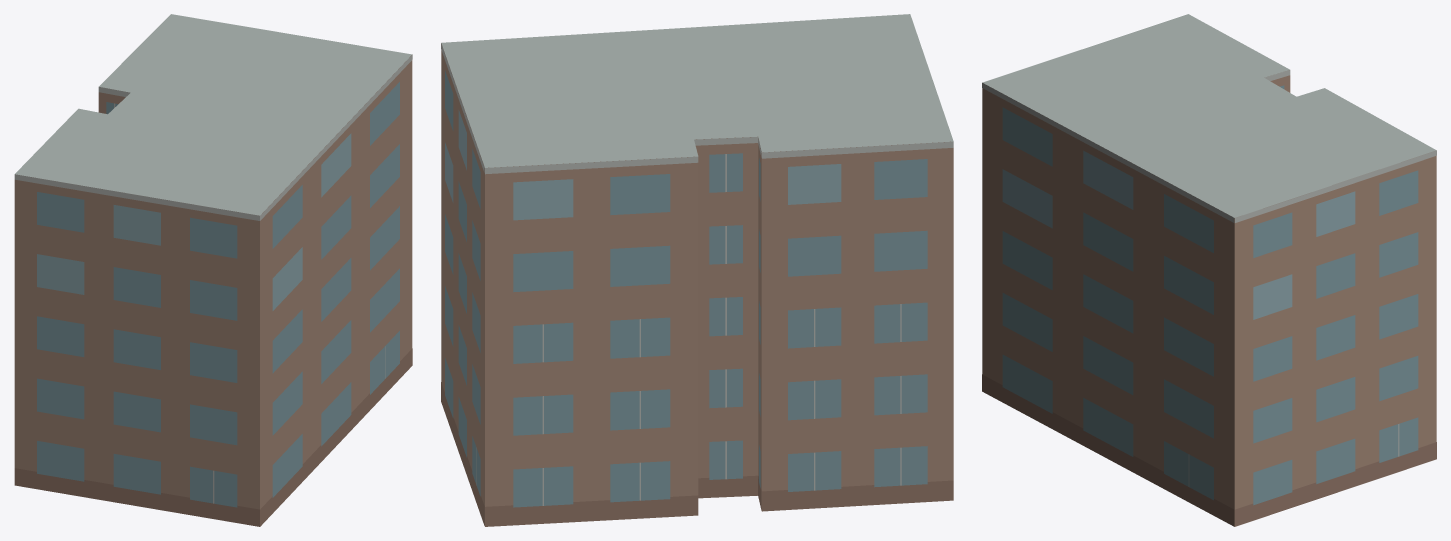
Rendered from survey-upis-32913955.glb.
3 renders of one model, left to right at view 1: azimuth 30°, elevation 25°; view 2: azimuth 150°, elevation 25°; view 3: azimuth 270°, elevation 25°, orthographic. The views are drawn at different scales.
Parts seen in each view (by area): view 1: survey-upis-32913955.tmp; view 2: survey-upis-32913955.tmp; view 3: survey-upis-32913955.tmp.
Part boxes in pixels (x1,y1,x2,y2): survey-upis-32913955.tmp: (14, 14, 412, 526); survey-upis-32913955.tmp: (441, 14, 953, 526); survey-upis-32913955.tmp: (982, 14, 1436, 526).
Size of the model in its own units: 19.85 by 14.01 by 18.69.
